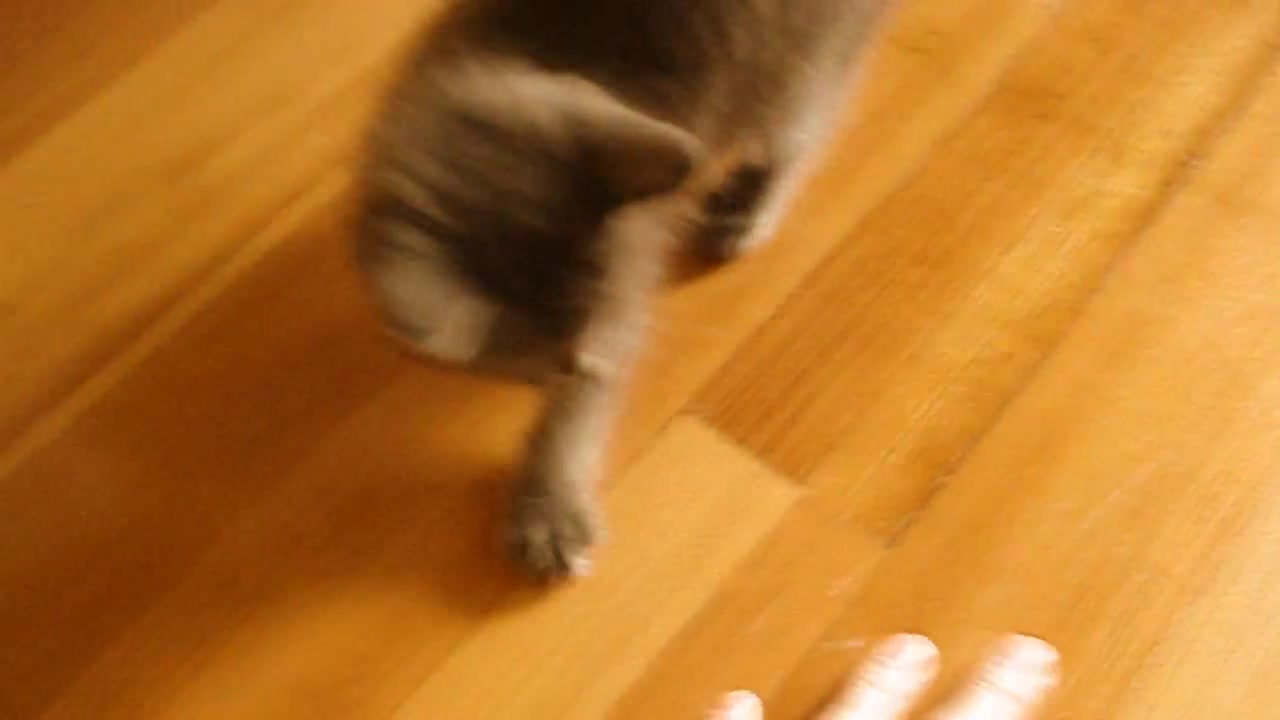cat: (354, 1, 876, 588)
